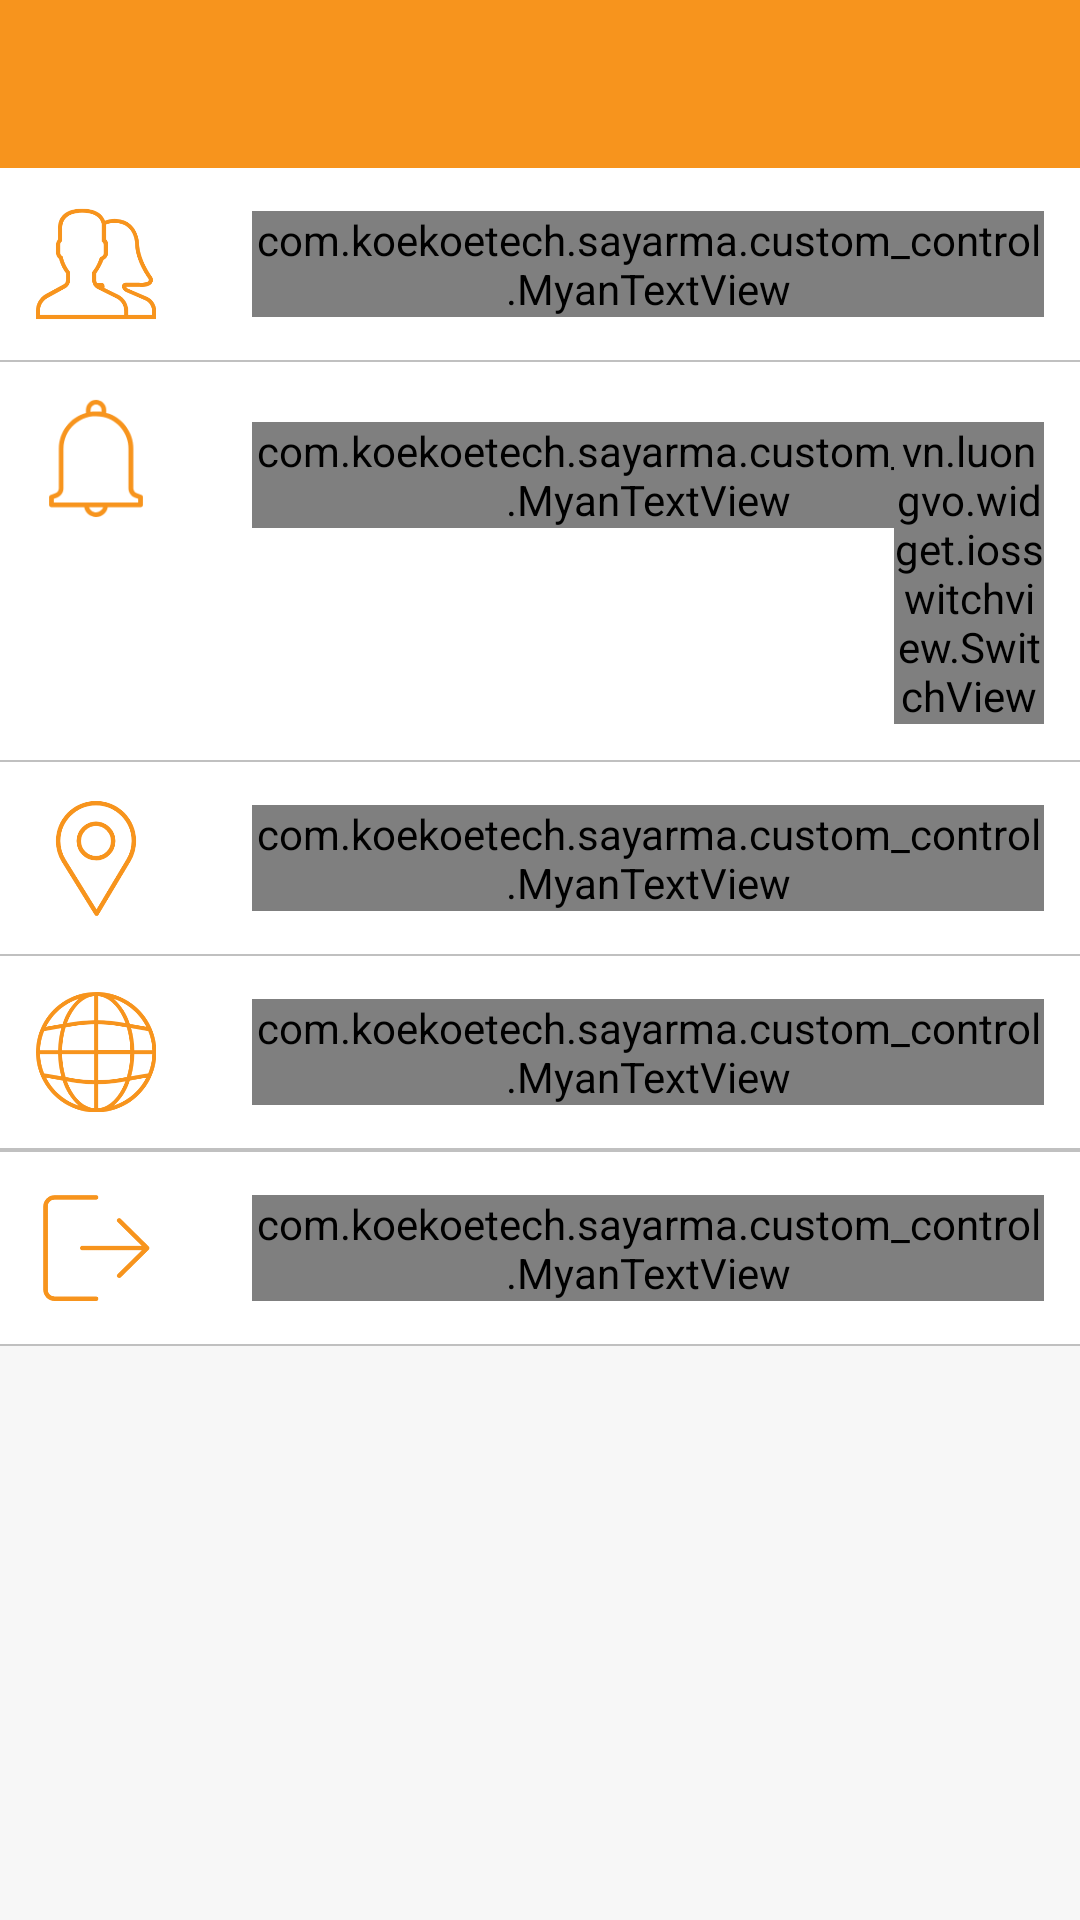

Icons on this 1080px×1920px Android screen, each with its box as (x1, y1, x2, y2):
language: (36, 992, 156, 1112)
location: (56, 801, 136, 916)
noti unselect: (49, 400, 143, 517)
profile: (36, 209, 156, 319)
